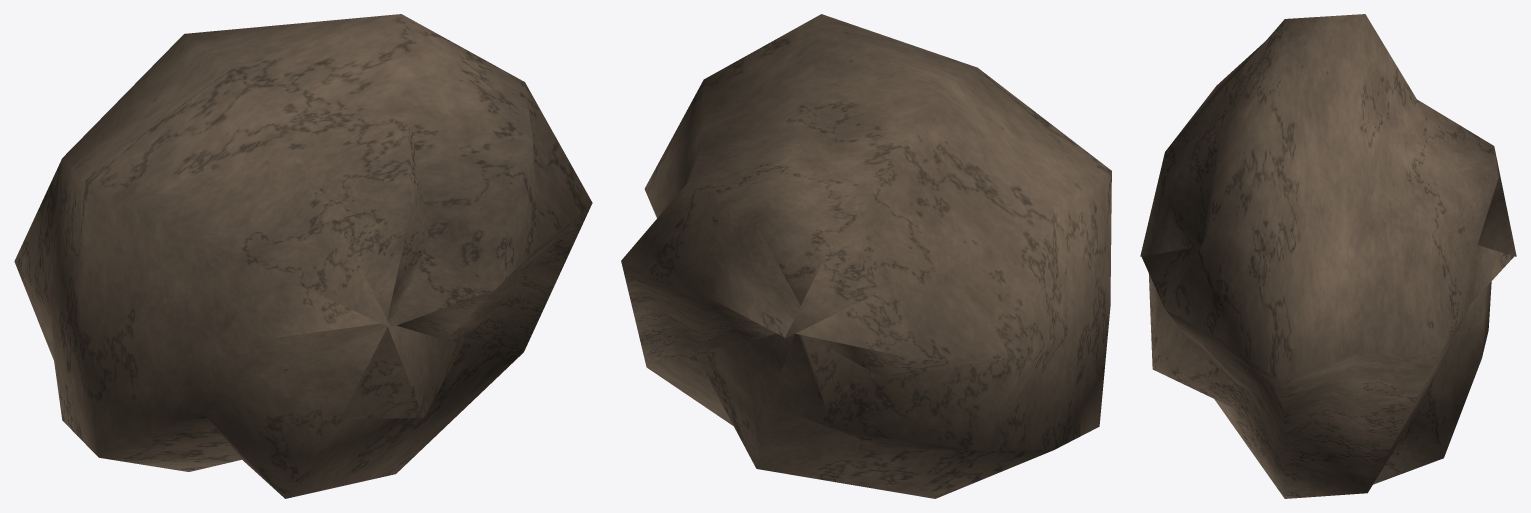
Rendered from rock.obj.
3 renders of one model, left to right at view 1: azimuth 30°, elevation 25°; view 2: azimuth 150°, elevation 25°; view 3: azimuth 270°, elevation 25°, orthographic. The views are drawn at different scales.
Parts seen in each view (by area): view 1: rock; view 2: rock; view 3: rock.
Boxes of the visible parts, bbox=[...] form: rock: bbox=[14, 14, 592, 498]; rock: bbox=[621, 14, 1111, 498]; rock: bbox=[1140, 14, 1516, 498].
Bounding box in the file's own units: 0.478 × 0.414 × 0.336.
Materials: 1 (1 with a texture image).
